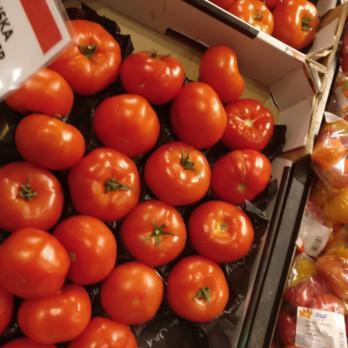Tomato: (0, 165, 235, 348), (46, 47, 243, 263)
